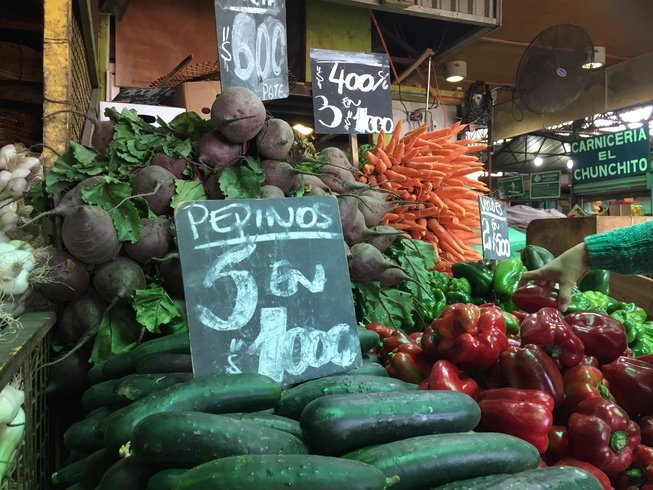precio: (176, 191, 363, 388), (210, 1, 292, 109), (310, 48, 397, 136)
